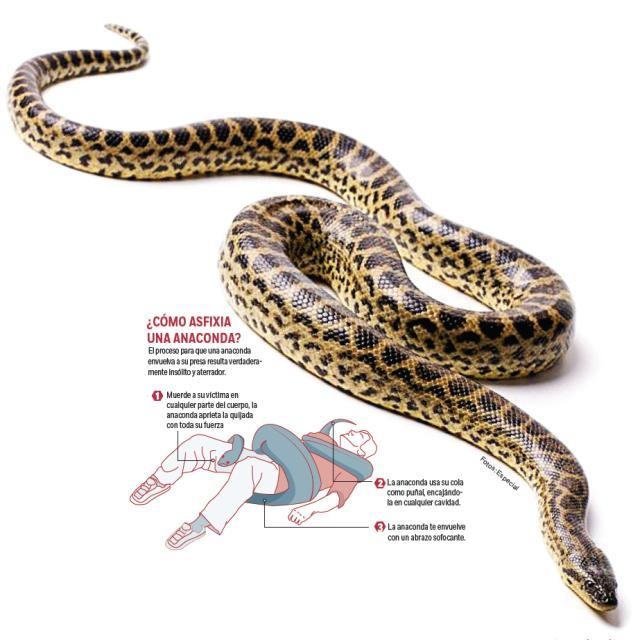Snake: (6, 12, 632, 614)
